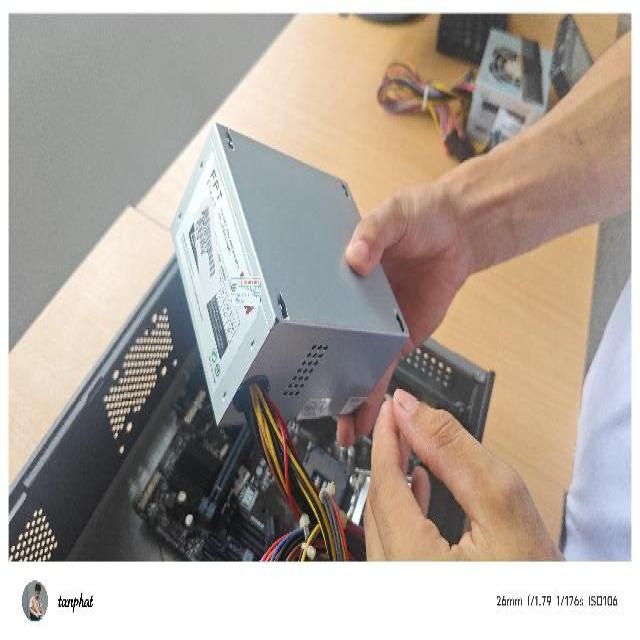PSU: (166, 114, 410, 448)
